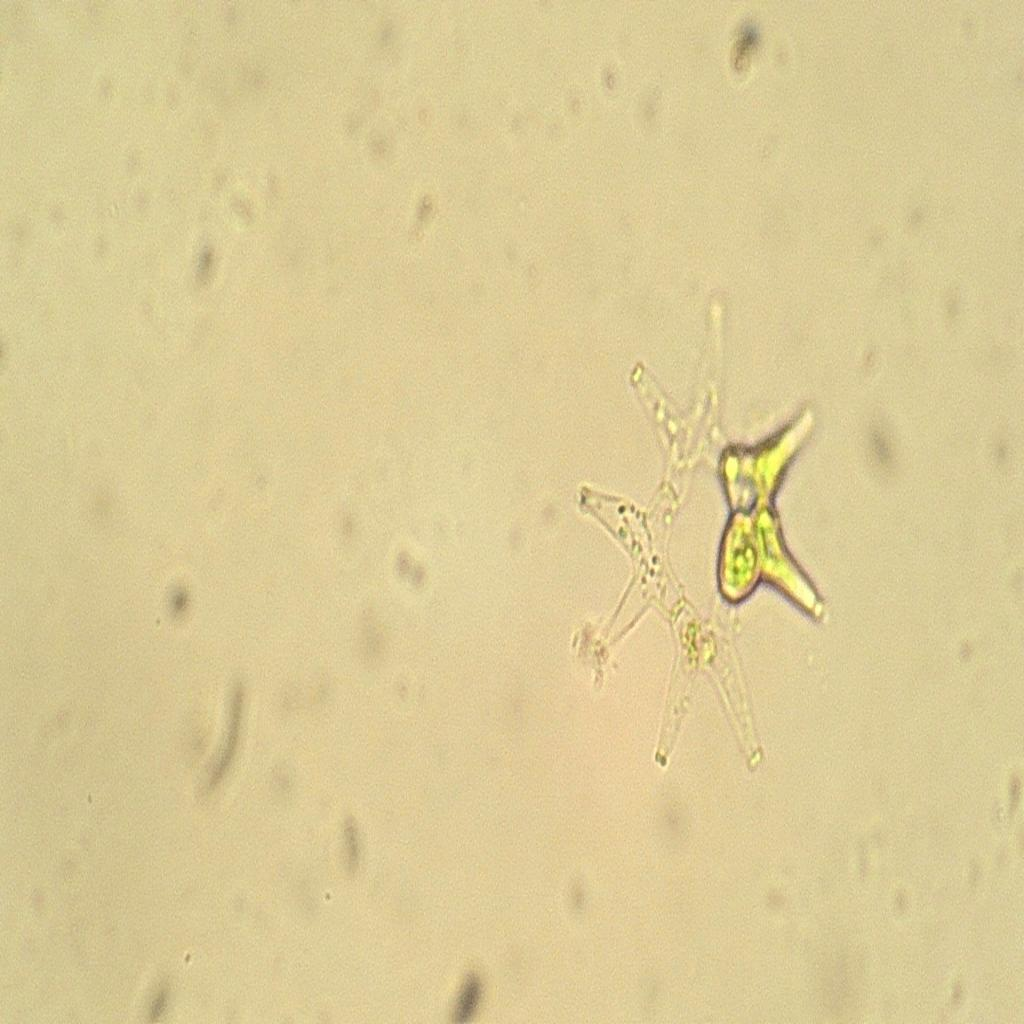Pediastrum_75TH: (567, 282, 845, 807)
